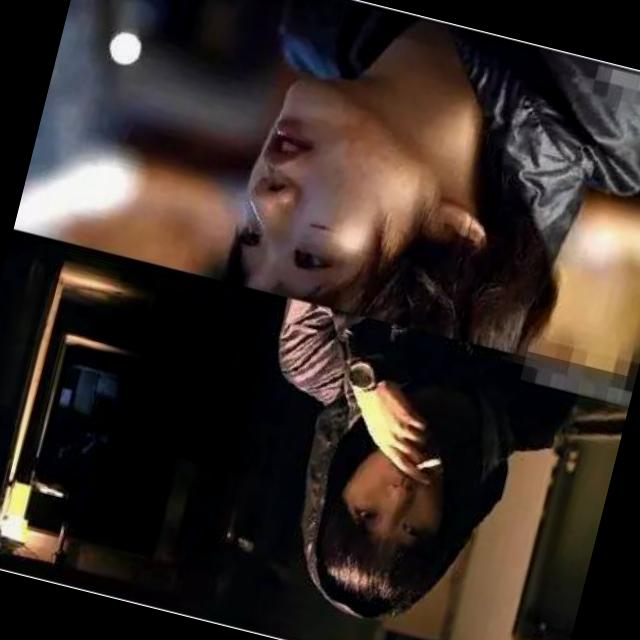cigarette: (413, 440, 452, 480)
